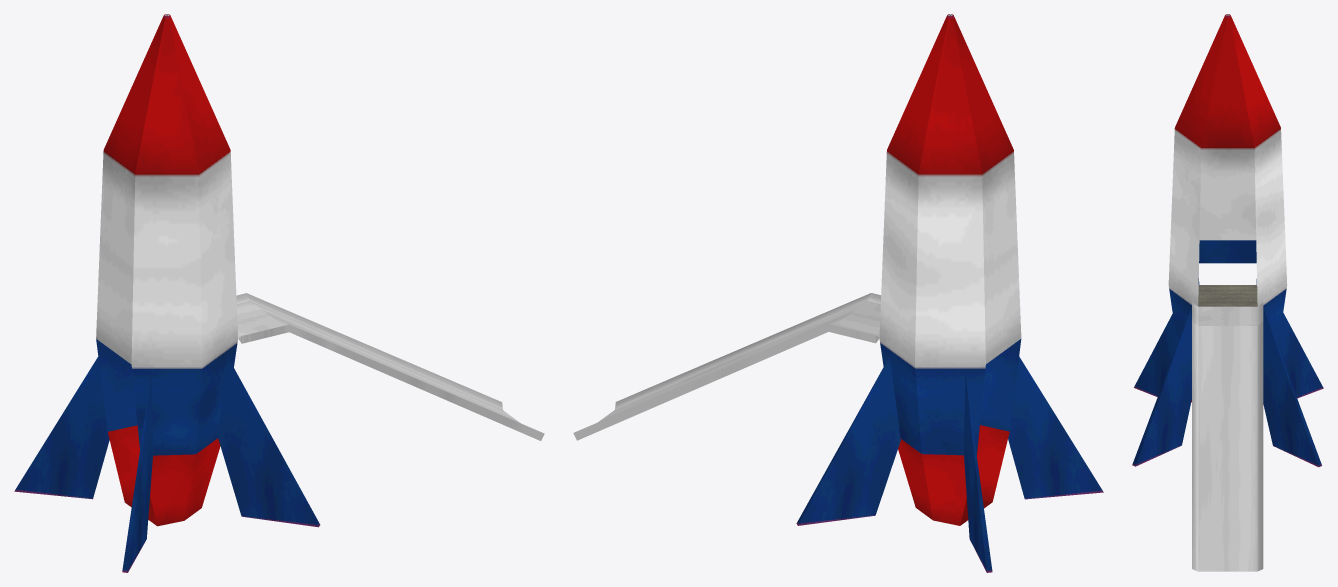
File: Rocketa.glb
3 renders of one model, left to right at view 1: azimuth 30°, elevation 25°; view 2: azimuth 150°, elevation 25°; view 3: azimuth 270°, elevation 25°, orthographic. The views are drawn at different scales.
Visible parts, largest first — view 1: Rocketa; view 2: Rocketa; view 3: Rocketa.
Part boxes in pixels (bbox=[...]): Rocketa: bbox=[14, 14, 544, 572]; Rocketa: bbox=[573, 14, 1103, 572]; Rocketa: bbox=[1132, 14, 1323, 571].
Bounding box in the file's own units: 1736 × 1807 × 758.
4 materials, 4 textured.
